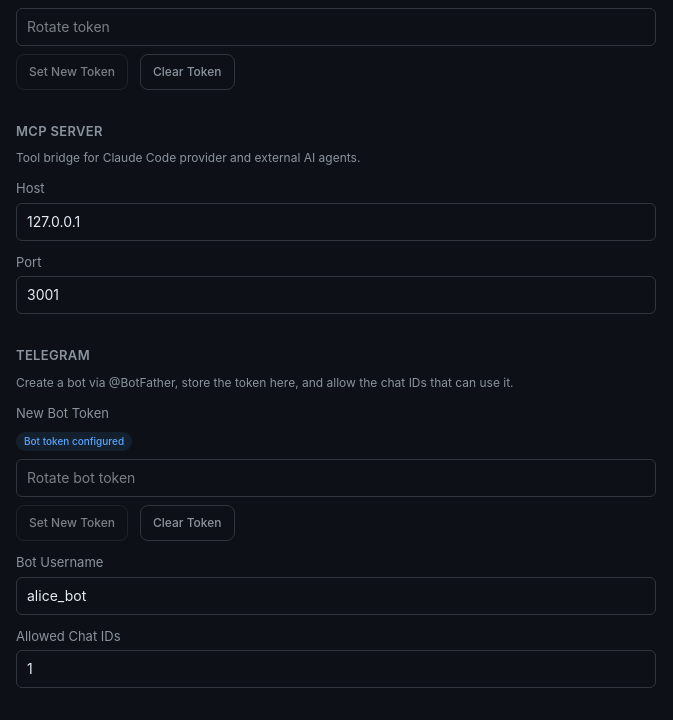
Test: ConnectorsPage › keeps the telegram token draft when rotation fails
(page scrolled)
Type "bad-bot-token" into the password field labelled "New Bot Token" at (336, 478), box [16,459,656,497]
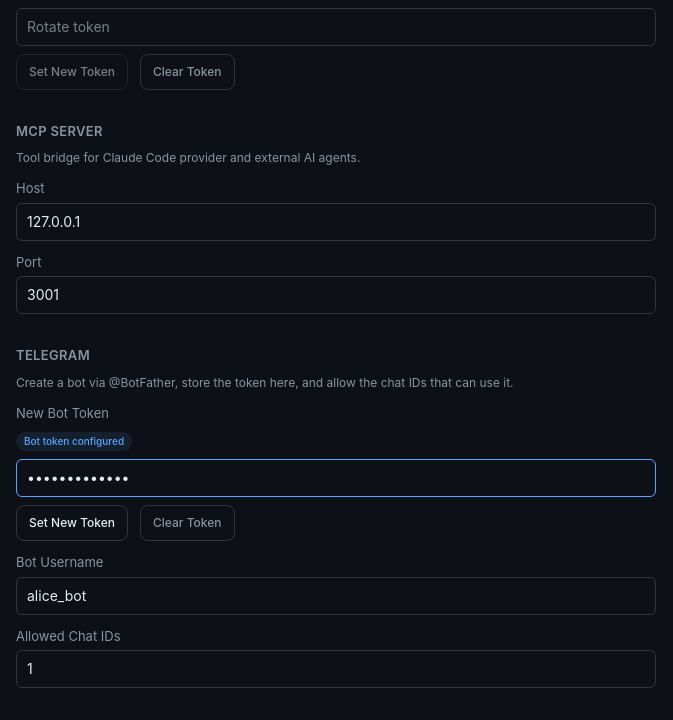
Click the button with aria-label "Set Telegram Token" at (72, 523), box [16,505,128,541]
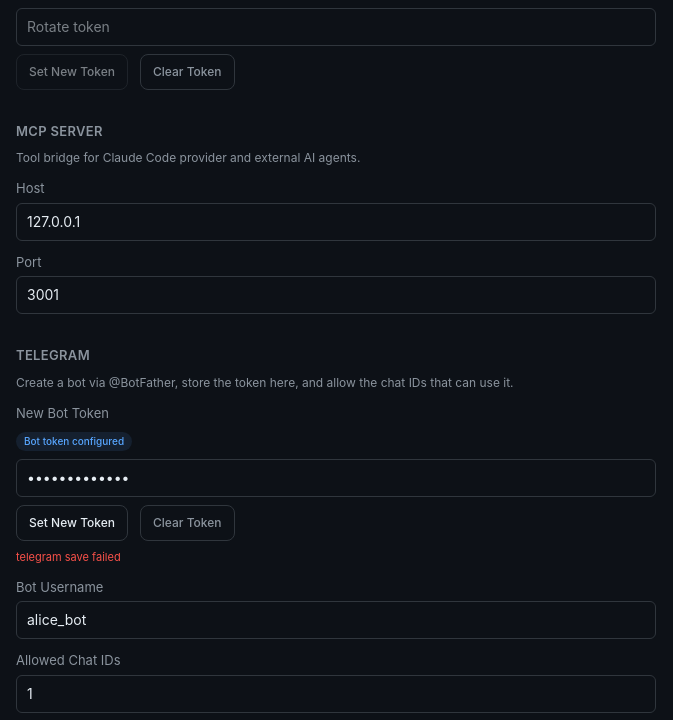
Expected: the text "telegram save failed" is shown, [16,550,121,564]
